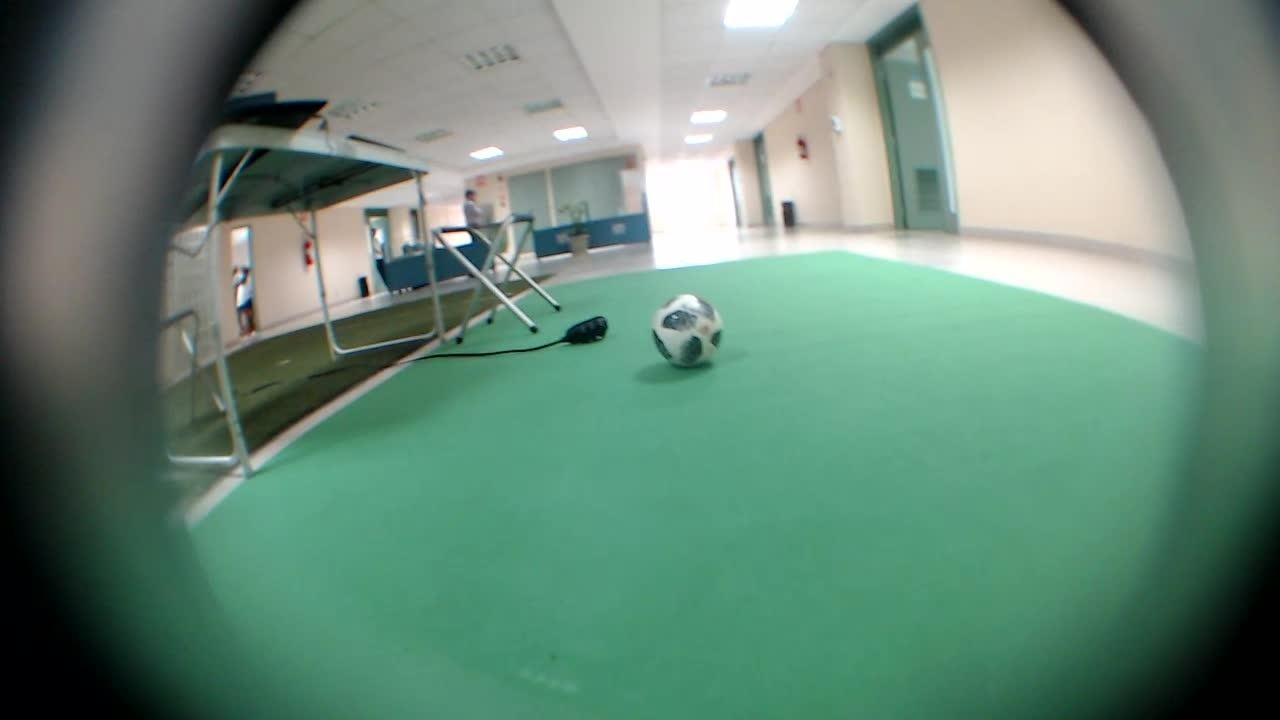ball: (643, 289, 725, 368)
